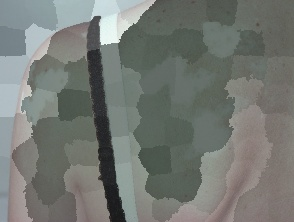vitiligo: (12, 0, 284, 222)
